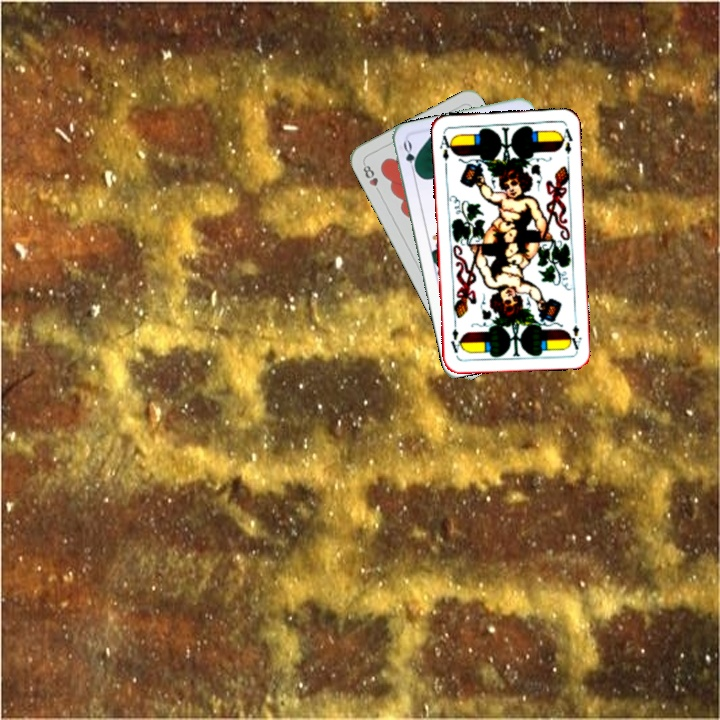EA: (565, 312, 584, 352), (436, 129, 455, 163)
GO: (399, 137, 421, 178)
H8: (359, 159, 384, 197)
